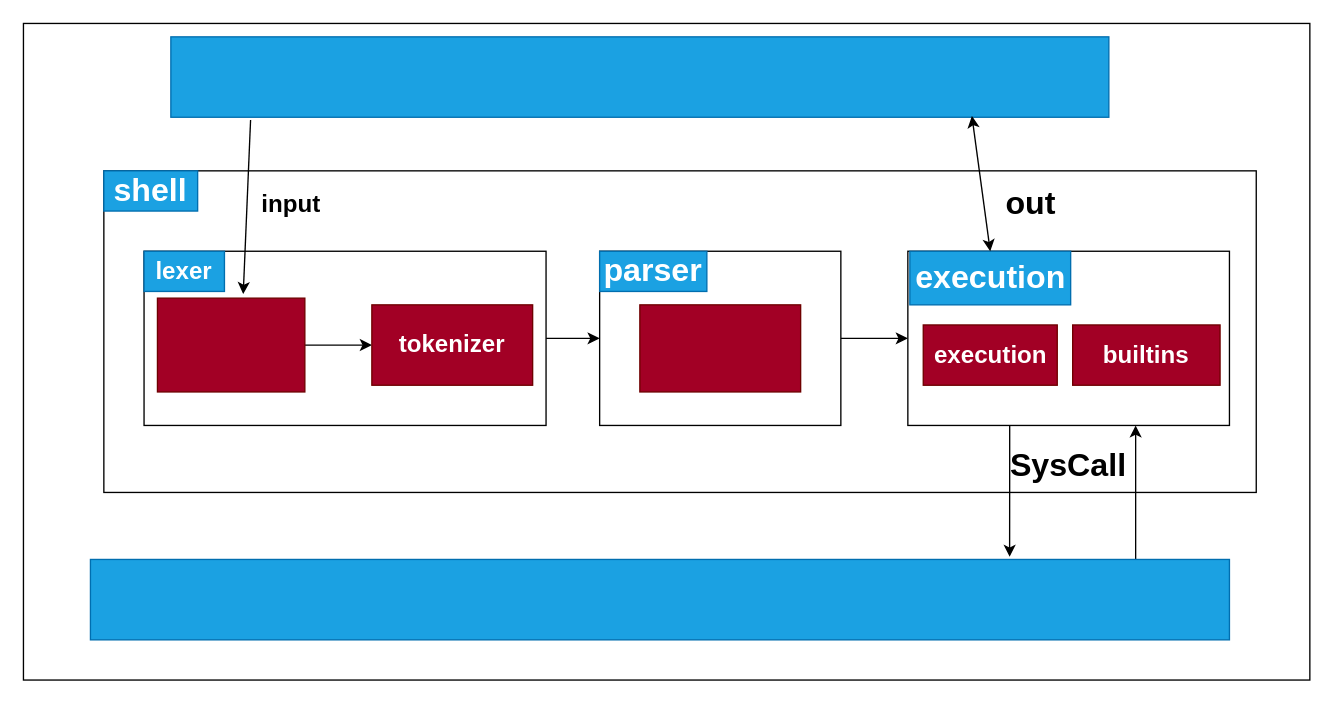
The diagram is 1333 pixels wide and 704 high, and some of its shapes have lost their labels. Each missing label, with the centre of its shape:
"handle double and expand" belongs at point 230,344.
"kernel" belongs at point 659,599.
"prepare linked list struct" belongs at point 720,348.
"user space" belongs at point 639,76.
